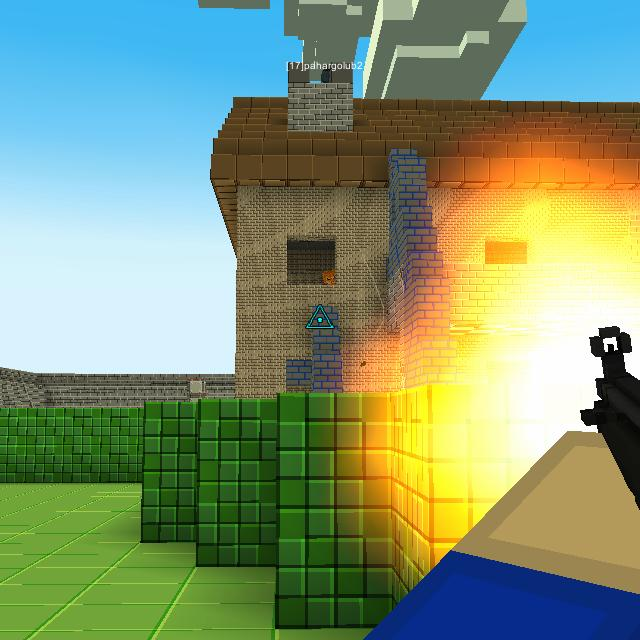enemy: (320, 267, 336, 286)
